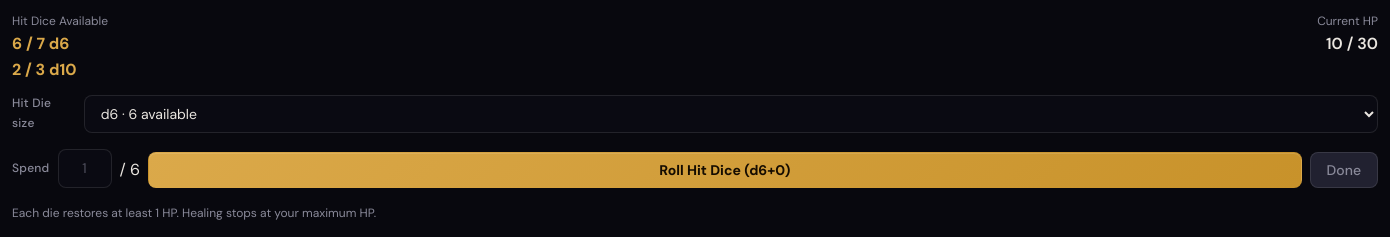
Test: does not clamp an invalid request 0 into a different payment
Select "d10 · 2 available" in the dropdown labelled "Hit Die size" at (731, 114), box [84,95,1378,133]
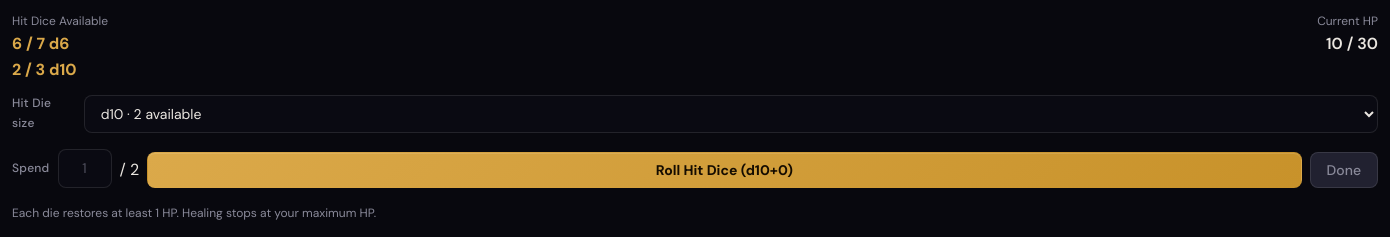
Type "0" into the number field named "Hit Dice to spend".
click(84, 168); type("0")  # box [58,149,112,188]
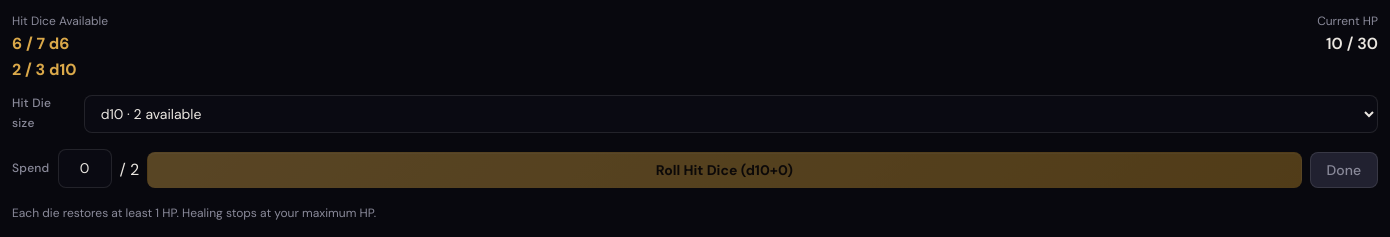
Expected: the button "Roll Hit Dice (d10+0)" is disabled, [147,152,1302,188]
